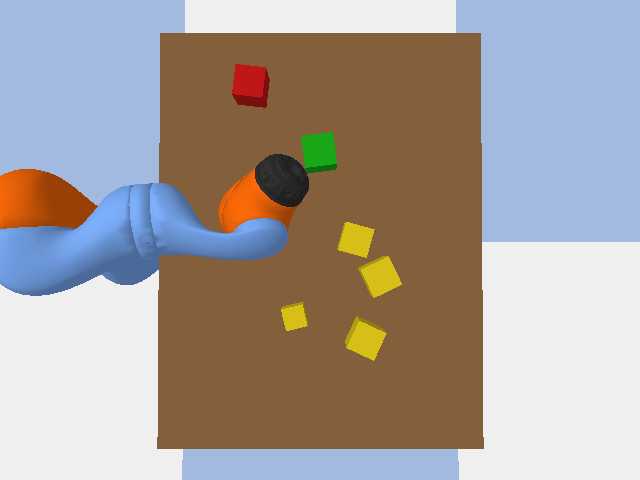green_obj: (301, 132, 336, 173)
red_obj: (232, 64, 269, 107)
yellow_obj: (345, 316, 386, 360), (358, 256, 401, 297), (337, 222, 374, 257), (281, 301, 307, 330)
